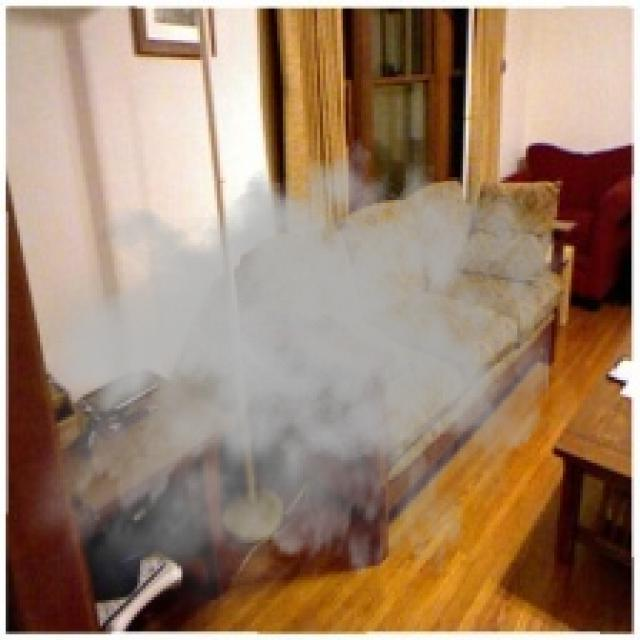Smoke: (6, 122, 563, 638)
